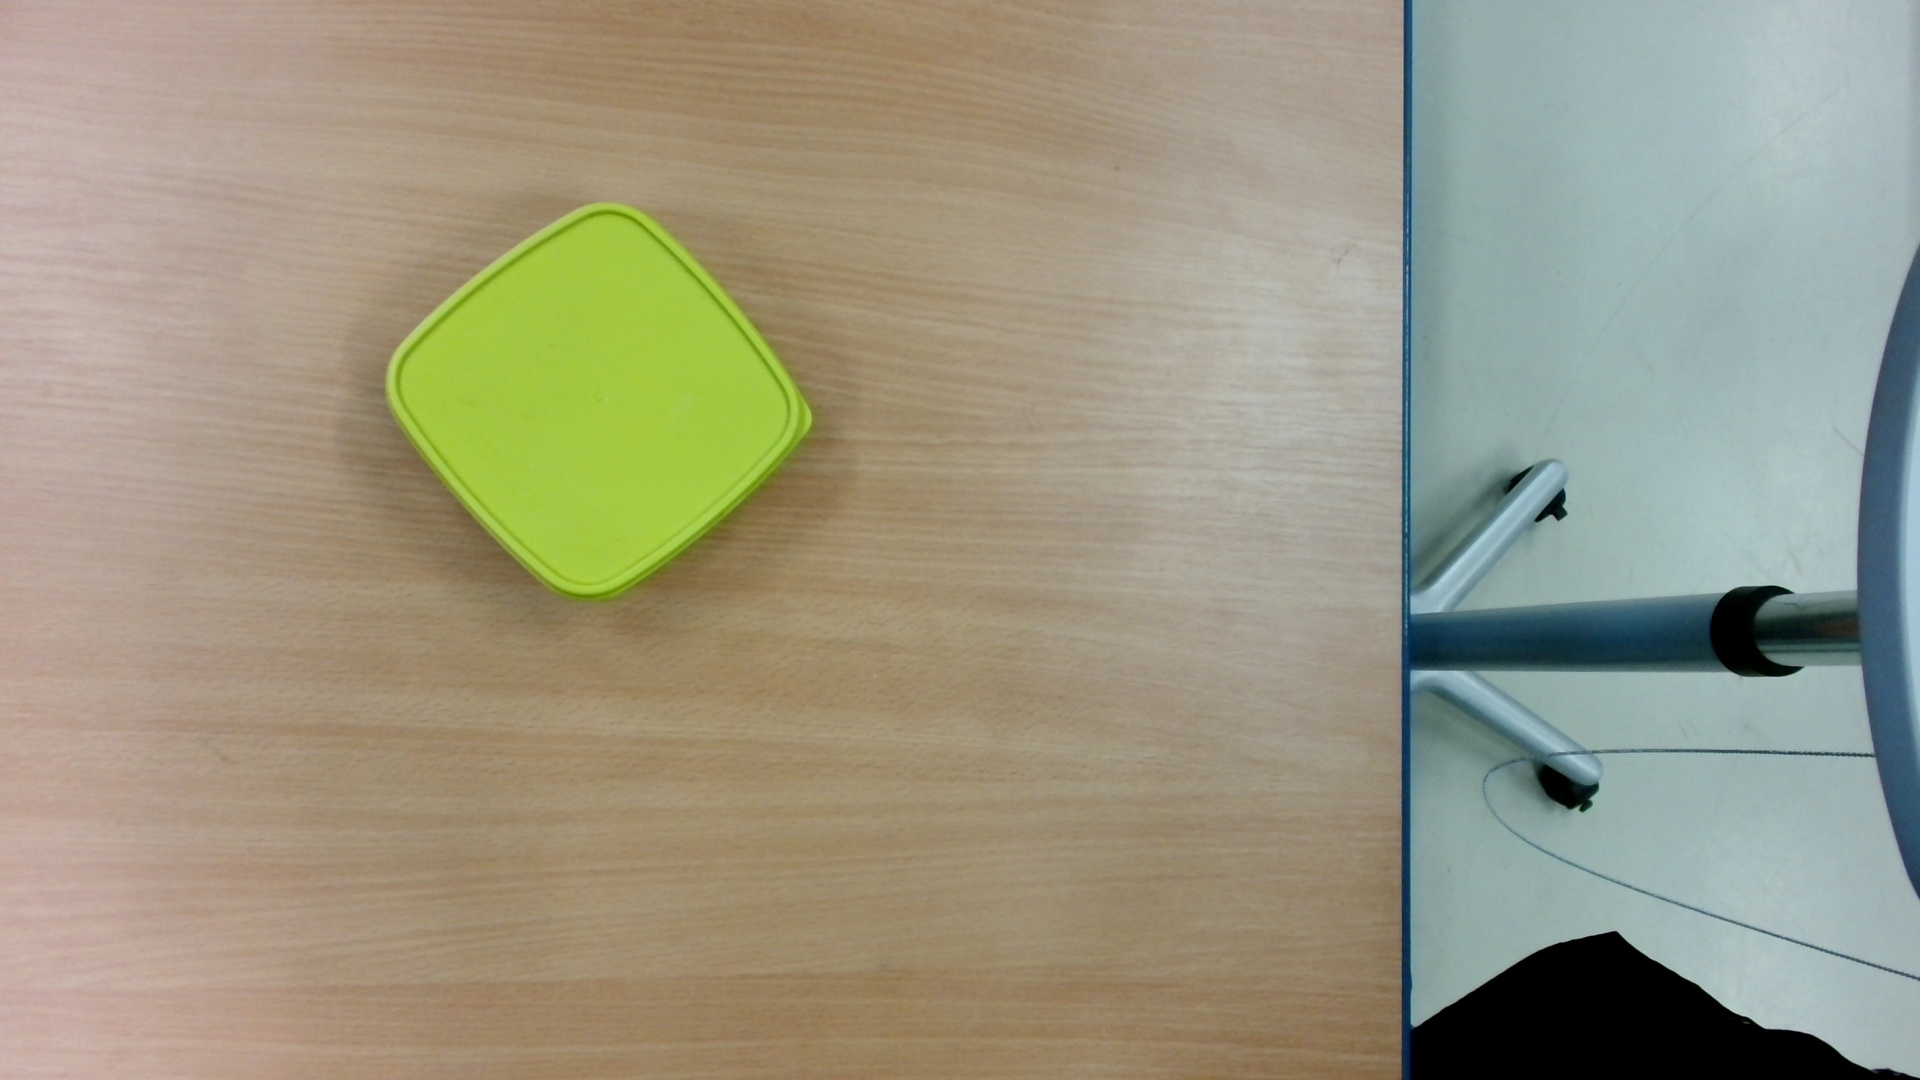Box: (376, 191, 829, 613)
